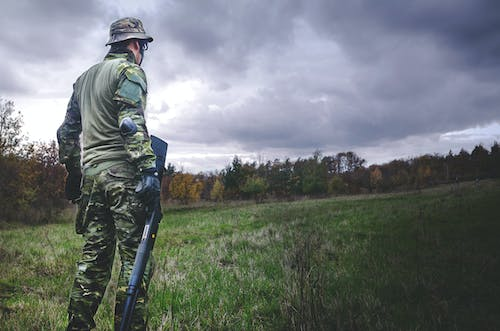gun: (117, 132, 170, 331)
